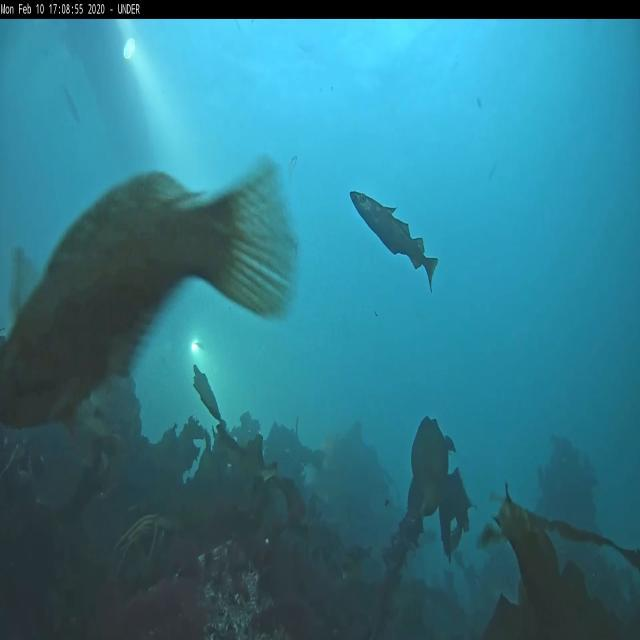fish: (1, 157, 297, 427), (349, 188, 437, 294), (62, 86, 78, 120), (286, 154, 296, 182)
